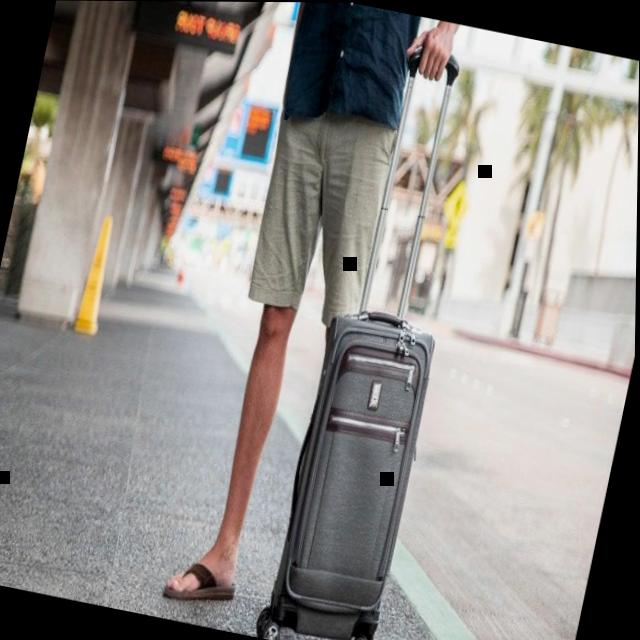luggage: (262, 299, 447, 640)
